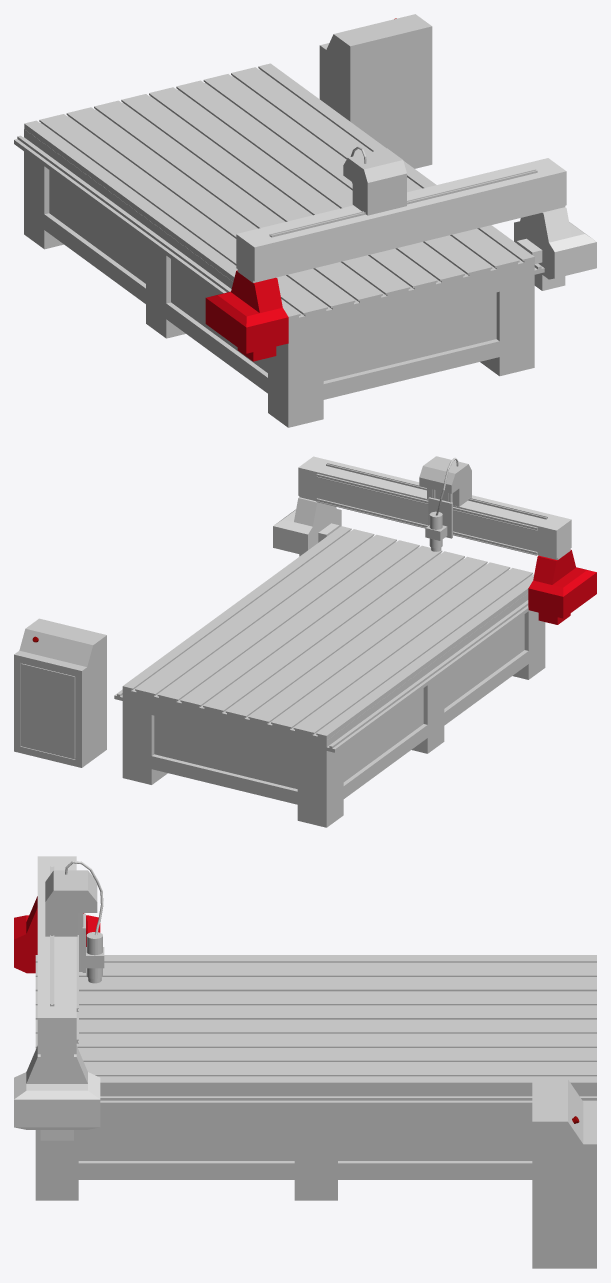
File: lazer_mt.fbx
3 renders of one model, top to bottom at view 1: azimuth 30°, elevation 25°; view 2: azimuth 150°, elevation 25°; view 3: azimuth 270°, elevation 25°, orthographic. The views are drawn at different scales.
Visible parts, largest first — view 1: Cube.004, Cube.020, Cube.027, Cube, Cube.001, Cube.003, Cube.006, Cube.010, Cube.012, Cube.008, Cube.023, Cube.014 (+11 smaller); view 2: Cube.004, Cube.020, Cube.027, Cube, Cube.003, Cube.016, Cube.006, Cube.001, Cube.008, Cube.018, Cube.012, Cube.014 (+14 smaller); view 3: Cube.004, Cube.020, Cube.027, Cube.018, Cube.005, Cube.009, Cube.007, Cube.017, Cube.013, Cube.011, Cube.015, Cube.002 (+11 smaller).
Part boxes in pixels (bbox=[...]): Cube.004: bbox=[14, 129, 544, 427]; Cube.020: bbox=[205, 158, 596, 361]; Cube.027: bbox=[319, 14, 432, 168]; Cube: bbox=[24, 120, 301, 321]; Cube.001: bbox=[39, 117, 315, 318]; Cube.003: bbox=[66, 110, 343, 311]; Cube.006: bbox=[94, 103, 370, 305]; Cube.010: bbox=[149, 90, 425, 291]; Cube.012: bbox=[176, 83, 452, 285]; Cube.008: bbox=[121, 97, 397, 298]; Cube.023: bbox=[343, 148, 406, 215]; Cube.014: bbox=[203, 77, 479, 278]; Cube.004: bbox=[114, 593, 545, 827]; Cube.020: bbox=[273, 456, 596, 624]; Cube.027: bbox=[14, 618, 106, 767]; Cube: bbox=[315, 574, 534, 740]; Cube.003: bbox=[281, 565, 510, 731]; Cube.016: bbox=[145, 531, 374, 698]; Cube.006: bbox=[258, 559, 487, 726]; Cube.001: bbox=[304, 570, 532, 737]; Cube.008: bbox=[236, 554, 464, 720]; Cube.018: bbox=[122, 526, 351, 693]; Cube.012: bbox=[190, 542, 419, 709]; Cube.014: bbox=[168, 537, 396, 704]; Cube.004: bbox=[35, 1088, 596, 1200]; Cube.020: bbox=[14, 856, 100, 1140]; Cube.027: bbox=[532, 1079, 596, 1268]; Cube.018: bbox=[98, 1076, 596, 1088]; Cube.005: bbox=[35, 983, 596, 991]; Cube.009: bbox=[35, 1011, 596, 1019]; Cube.007: bbox=[35, 997, 596, 1005]; Cube.017: bbox=[87, 1068, 596, 1076]; Cube.013: bbox=[35, 1040, 596, 1047]; Cube.011: bbox=[35, 1026, 596, 1033]; Cube.015: bbox=[80, 1054, 596, 1061]; Cube.002: bbox=[35, 969, 596, 976].
Bounding box in the file's own units: 1221 × 662 × 1350.
